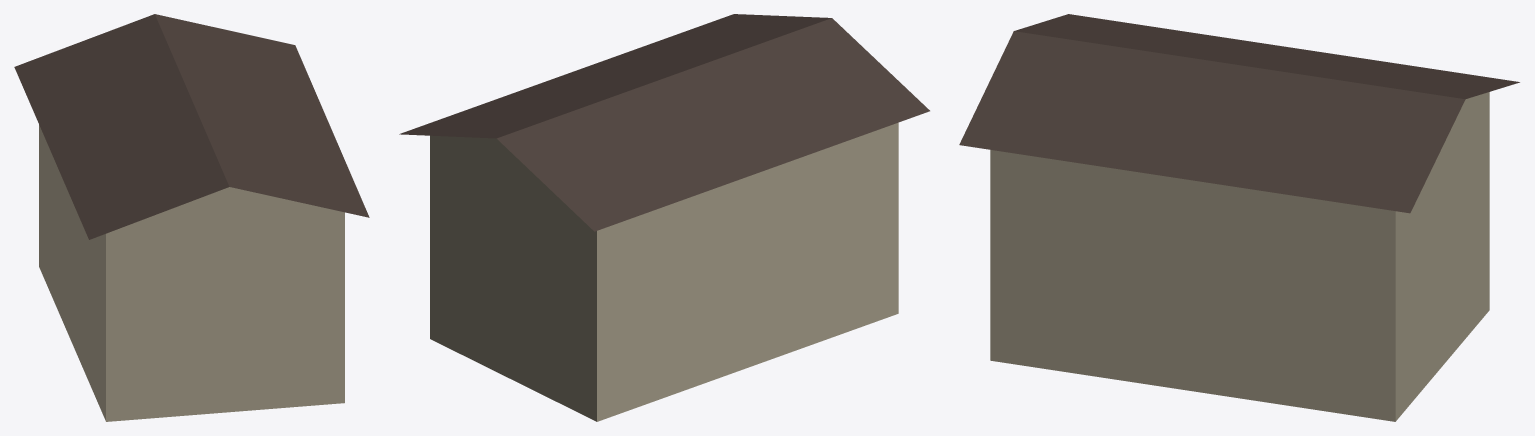
3 views of the same model, side by side, from view 1: azimuth 30°, elevation 25°; view 2: azimuth 150°, elevation 25°; view 3: azimuth 270°, elevation 25° (orthographic). The views are drawn at different scales.
Visible parts, largest first — view 1: buildings; view 2: buildings; view 3: buildings.
Part boxes in pixels (x1,y1,x2,y2): buildings: (14,14,369,421); buildings: (399,14,929,421); buildings: (959,14,1519,421).
Size of the model in its own units: 5.79 by 3.66 by 6.89.
